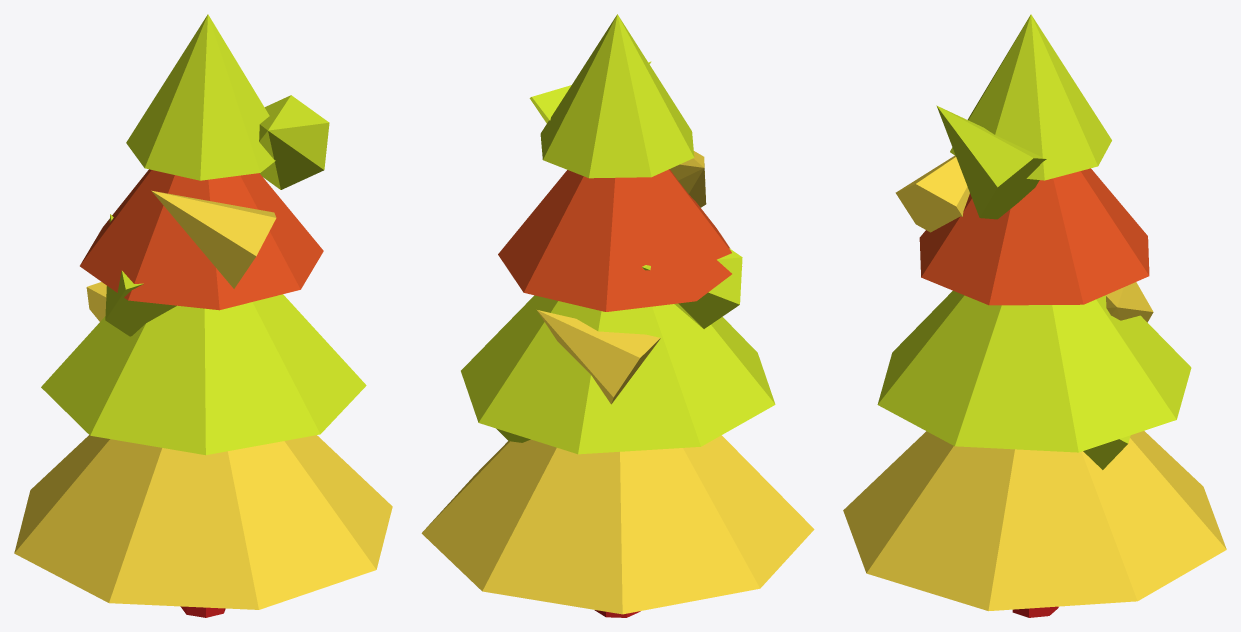
Rendered from pine_tree.glb.
3 views of the same model, side by side, from view 1: azimuth 30°, elevation 25°; view 2: azimuth 150°, elevation 25°; view 3: azimuth 270°, elevation 25° (orthographic).
Parts seen in each view (by area): view 1: Pine_Foliage; view 2: Pine_Foliage; view 3: Pine_Foliage.
Boxes of the visible parts, x1,y1,x2,y2 form: Pine_Foliage: (14,14,392,609); Pine_Foliage: (421,14,814,614); Pine_Foliage: (843,14,1226,611).
Size of the model in its own units: 2.24 by 3.82 by 2.24.
